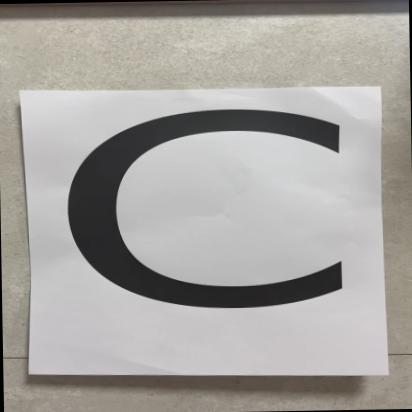seat: (1, 63, 412, 395)
